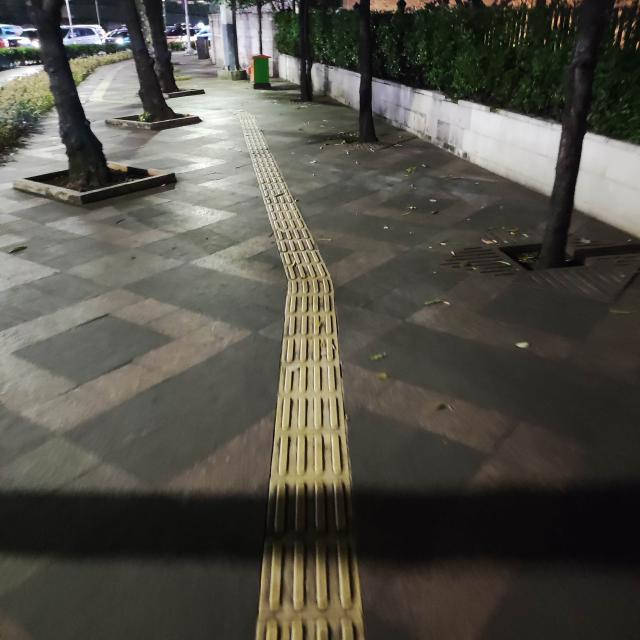lurus: (254, 262, 374, 640)
